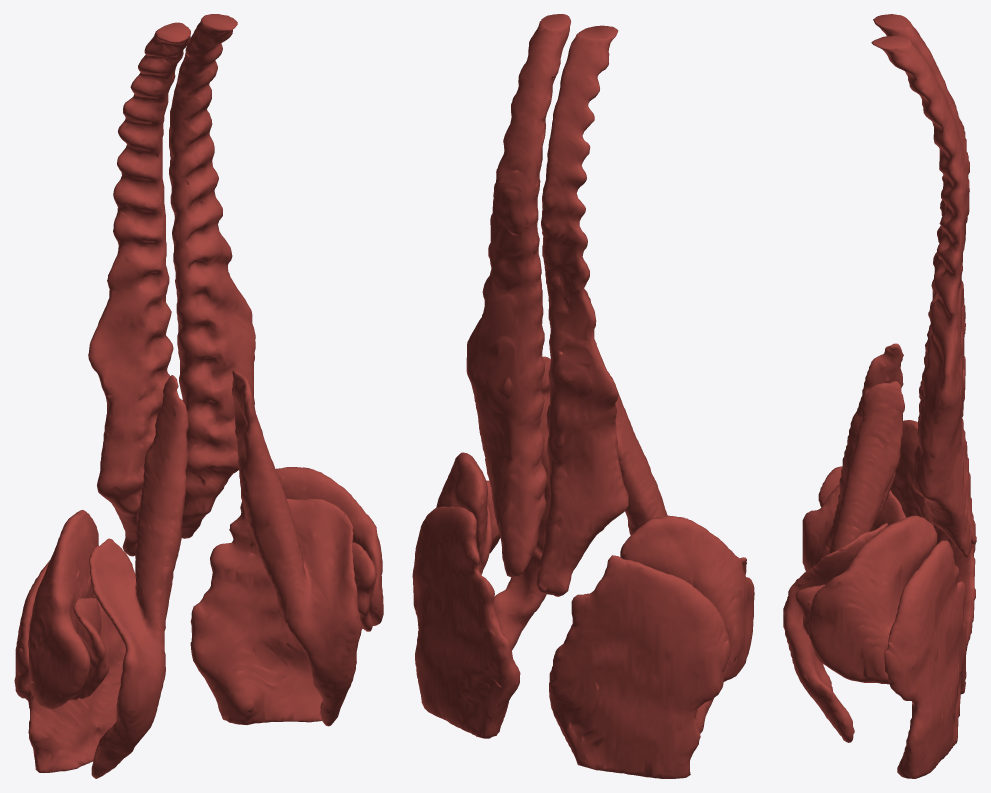
Rendered from tsd_s0327_older_adult_male.muscular.LOD2.glb.
3 renders of one model, left to right at view 1: azimuth 30°, elevation 25°; view 2: azimuth 150°, elevation 25°; view 3: azimuth 270°, elevation 25°, orthographic. The views are drawn at different scales.
Visible parts, largest first — view 1: TSD_S0327.OLDER_ADULT.MALE.MUSCULAR.ERECTOR_SPINAE_AUTOCHTHO (×2), TSD_S0327.OLDER_ADULT.MALE.MUSCULAR.ILIOPSOAS.L, TSD_S0327.OLDER_ADULT.MALE.MUSCULAR.ILIOPSOAS.R, TSD_S0327.OLDER_ADULT.MALE.MUSCULAR.GLUTEUS_MAXIMUS.L, TSD_S0327.OLDER_ADULT.MALE.MUSCULAR.GLUTEUS_MEDIUS.R, TSD_S0327.OLDER_ADULT.MALE.MUSCULAR.GLUTEUS_MAXIMUS.R, TSD_S0327.OLDER_ADULT.MALE.MUSCULAR.GLUTEUS_MEDIUS.L, TSD_S0327.OLDER_ADULT.MALE.MUSCULAR.GLUTEUS_MINIMUS.R, TSD_S0327.OLDER_ADULT.MALE.MUSCULAR.GLUTEUS_MINIMUS.L; view 2: TSD_S0327.OLDER_ADULT.MALE.MUSCULAR.ERECTOR_SPINAE_AUTOCHTHO (×2), TSD_S0327.OLDER_ADULT.MALE.MUSCULAR.GLUTEUS_MAXIMUS.R, TSD_S0327.OLDER_ADULT.MALE.MUSCULAR.GLUTEUS_MAXIMUS.L, TSD_S0327.OLDER_ADULT.MALE.MUSCULAR.GLUTEUS_MEDIUS.R, TSD_S0327.OLDER_ADULT.MALE.MUSCULAR.ILIOPSOAS.L, TSD_S0327.OLDER_ADULT.MALE.MUSCULAR.ILIOPSOAS.R, TSD_S0327.OLDER_ADULT.MALE.MUSCULAR.GLUTEUS_MEDIUS.L, TSD_S0327.OLDER_ADULT.MALE.MUSCULAR.GLUTEUS_MINIMUS.L; view 3: TSD_S0327.OLDER_ADULT.MALE.MUSCULAR.ERECTOR_SPINAE_AUTOCHTHO (×2), TSD_S0327.OLDER_ADULT.MALE.MUSCULAR.GLUTEUS_MAXIMUS.L, TSD_S0327.OLDER_ADULT.MALE.MUSCULAR.ILIOPSOAS.L, TSD_S0327.OLDER_ADULT.MALE.MUSCULAR.GLUTEUS_MEDIUS.L, TSD_S0327.OLDER_ADULT.MALE.MUSCULAR.ILIOPSOAS.R, TSD_S0327.OLDER_ADULT.MALE.MUSCULAR.GLUTEUS_MEDIUS.R, TSD_S0327.OLDER_ADULT.MALE.MUSCULAR.GLUTEUS_MAXIMUS.R, TSD_S0327.OLDER_ADULT.MALE.MUSCULAR.GLUTEUS_MINIMUS.R, TSD_S0327.OLDER_ADULT.MALE.MUSCULAR.GLUTEUS_MINIMUS.L.
Boxes of the visible parts, left/top/right/bottom form: TSD_S0327.OLDER_ADULT.MALE.MUSCULAR.ERECTOR_SPINAE_AUTOCHTHO (×2): left=88, top=14, right=255, bottom=556; TSD_S0327.OLDER_ADULT.MALE.MUSCULAR.ILIOPSOAS.L: left=231, top=370, right=361, bottom=726; TSD_S0327.OLDER_ADULT.MALE.MUSCULAR.ILIOPSOAS.R: left=89, top=375, right=188, bottom=778; TSD_S0327.OLDER_ADULT.MALE.MUSCULAR.GLUTEUS_MAXIMUS.L: left=190, top=501, right=322, bottom=724; TSD_S0327.OLDER_ADULT.MALE.MUSCULAR.GLUTEUS_MEDIUS.R: left=28, top=510, right=98, bottom=709; TSD_S0327.OLDER_ADULT.MALE.MUSCULAR.GLUTEUS_MAXIMUS.R: left=14, top=560, right=125, bottom=772; TSD_S0327.OLDER_ADULT.MALE.MUSCULAR.GLUTEUS_MEDIUS.L: left=275, top=467, right=383, bottom=625; TSD_S0327.OLDER_ADULT.MALE.MUSCULAR.GLUTEUS_MINIMUS.R: left=70, top=597, right=109, bottom=700; TSD_S0327.OLDER_ADULT.MALE.MUSCULAR.GLUTEUS_MINIMUS.L: left=352, top=542, right=376, bottom=631; TSD_S0327.OLDER_ADULT.MALE.MUSCULAR.ERECTOR_SPINAE_AUTOCHTHO (×2): left=466, top=14, right=628, bottom=596; TSD_S0327.OLDER_ADULT.MALE.MUSCULAR.GLUTEUS_MAXIMUS.R: left=549, top=555, right=731, bottom=778; TSD_S0327.OLDER_ADULT.MALE.MUSCULAR.GLUTEUS_MAXIMUS.L: left=412, top=506, right=520, bottom=738; TSD_S0327.OLDER_ADULT.MALE.MUSCULAR.GLUTEUS_MEDIUS.R: left=620, top=515, right=754, bottom=681; TSD_S0327.OLDER_ADULT.MALE.MUSCULAR.ILIOPSOAS.L: left=485, top=356, right=550, bottom=650; TSD_S0327.OLDER_ADULT.MALE.MUSCULAR.ILIOPSOAS.R: left=610, top=376, right=713, bottom=733; TSD_S0327.OLDER_ADULT.MALE.MUSCULAR.GLUTEUS_MEDIUS.L: left=436, top=452, right=487, bottom=572; TSD_S0327.OLDER_ADULT.MALE.MUSCULAR.GLUTEUS_MINIMUS.L: left=480, top=480, right=500, bottom=574; TSD_S0327.OLDER_ADULT.MALE.MUSCULAR.ERECTOR_SPINAE_AUTOCHTHO (×2): left=871, top=14, right=976, bottom=557; TSD_S0327.OLDER_ADULT.MALE.MUSCULAR.GLUTEUS_MAXIMUS.L: left=884, top=540, right=968, bottom=778; TSD_S0327.OLDER_ADULT.MALE.MUSCULAR.ILIOPSOAS.L: left=783, top=381, right=904, bottom=742; TSD_S0327.OLDER_ADULT.MALE.MUSCULAR.GLUTEUS_MEDIUS.L: left=809, top=515, right=937, bottom=684; TSD_S0327.OLDER_ADULT.MALE.MUSCULAR.ILIOPSOAS.R: left=802, top=343, right=903, bottom=571; TSD_S0327.OLDER_ADULT.MALE.MUSCULAR.GLUTEUS_MEDIUS.R: left=890, top=420, right=934, bottom=526; TSD_S0327.OLDER_ADULT.MALE.MUSCULAR.GLUTEUS_MAXIMUS.R: left=934, top=520, right=975, bottom=694; TSD_S0327.OLDER_ADULT.MALE.MUSCULAR.GLUTEUS_MINIMUS.R: left=818, top=466, right=906, bottom=531; TSD_S0327.OLDER_ADULT.MALE.MUSCULAR.GLUTEUS_MINIMUS.L: left=795, top=584, right=825, bottom=664.
Bounding box in the file's own units: 0.3078 × 0.6438 × 0.1658.
